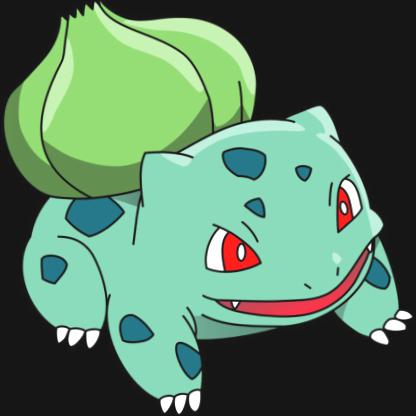Bisasam: (0, 15, 404, 415)
